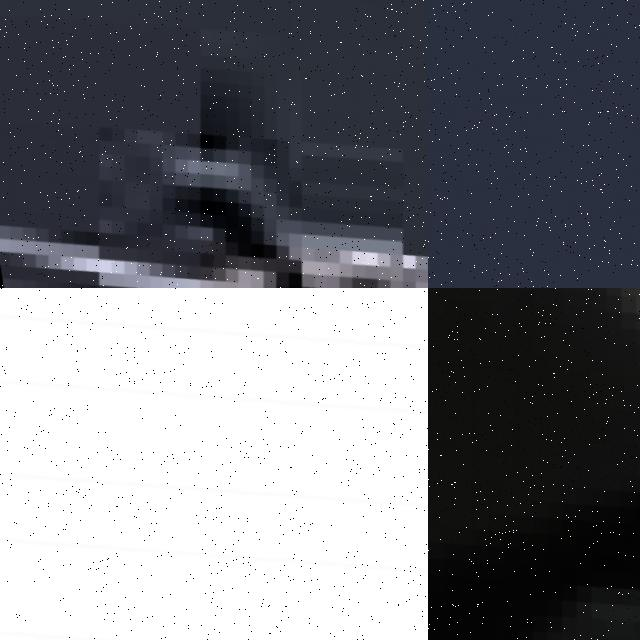0: (0, 0, 428, 288)
drone: (0, 288, 428, 640), (428, 288, 640, 640)
